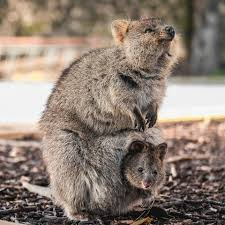quokka: (20, 13, 188, 225)
